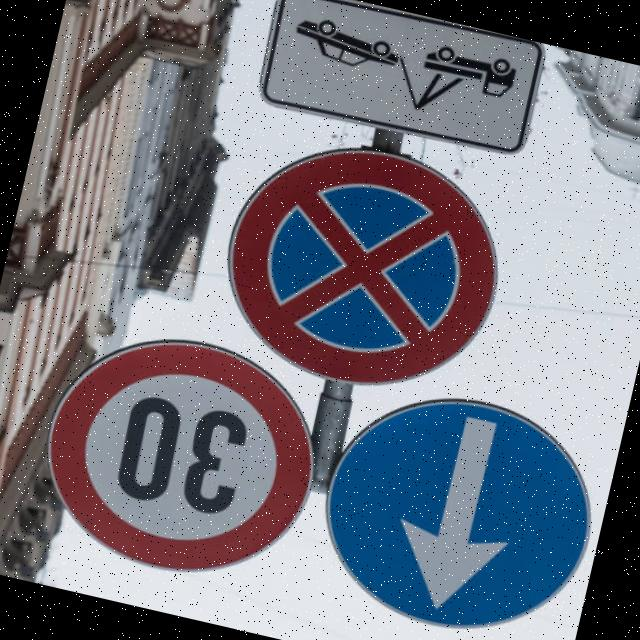no_parking: (197, 110, 528, 417)
